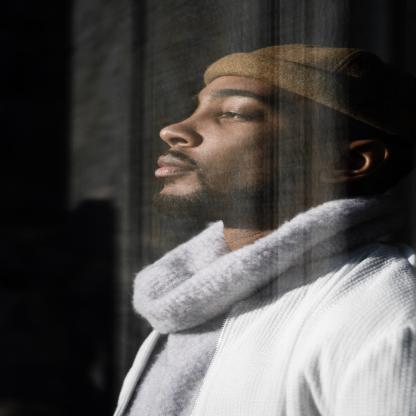Eye: (218, 104, 266, 126)
Mouth: (152, 154, 202, 180)
Nose: (158, 112, 214, 149)
